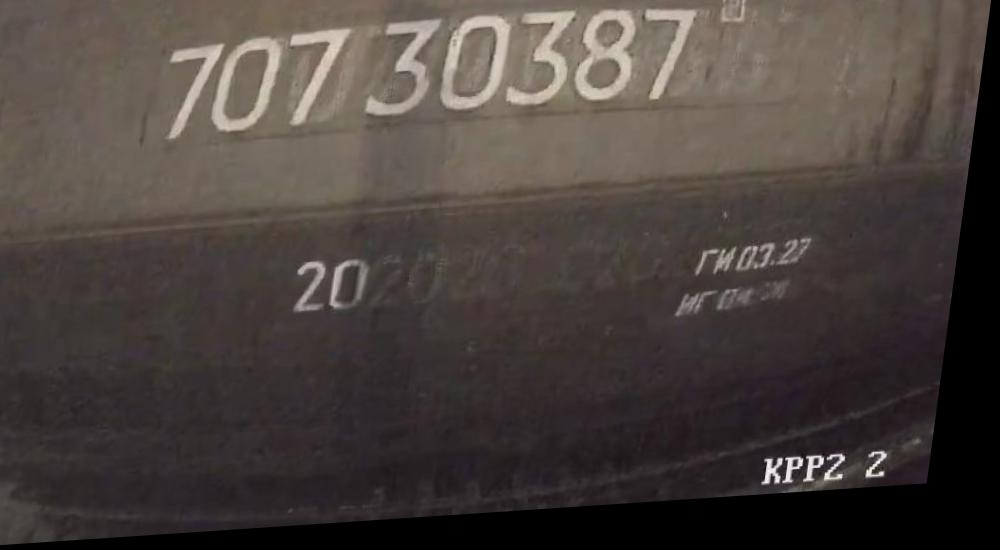Wagon-number: (156, 7, 711, 151)
